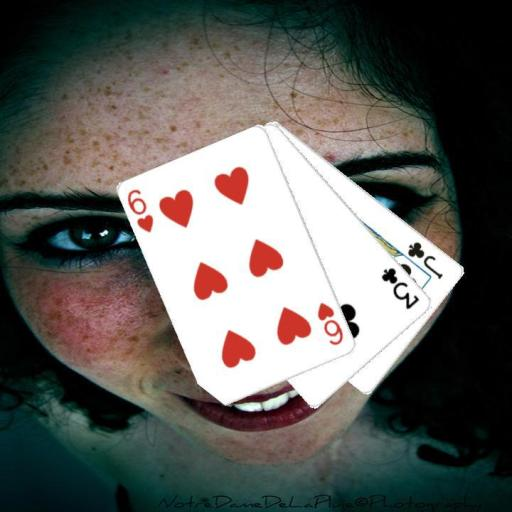3C: (378, 264, 422, 311)
6H: (314, 299, 346, 347), (124, 186, 156, 234)
JC: (405, 238, 445, 281)
